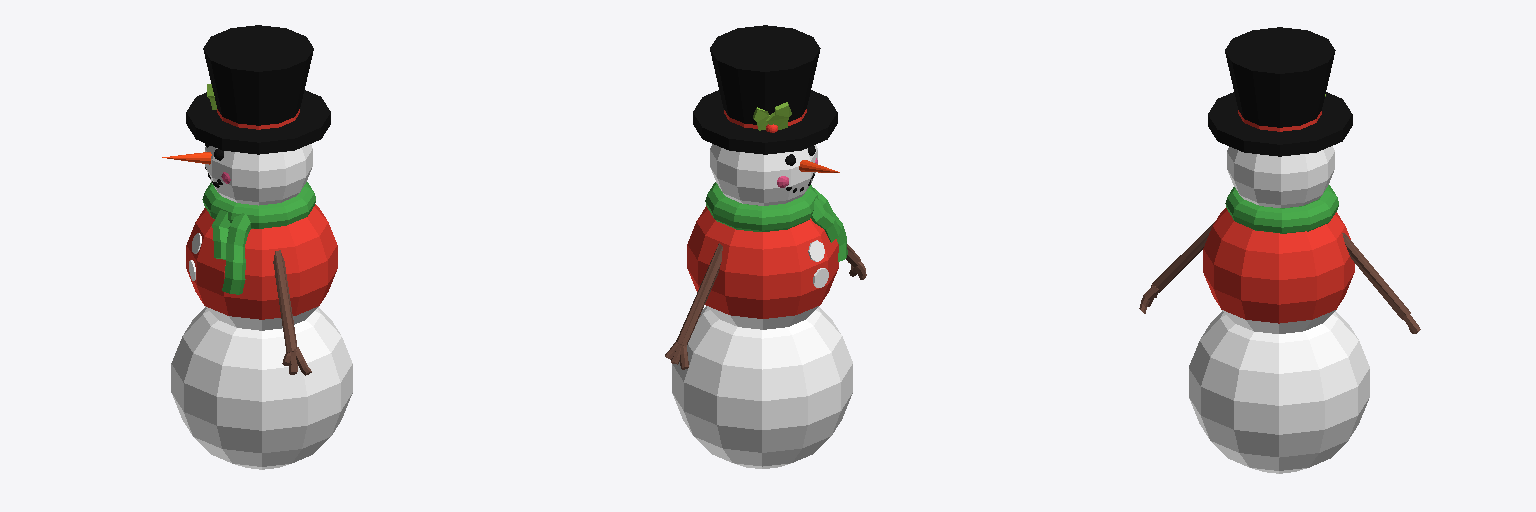
3 views of the same model, side by side, from view 1: azimuth 30°, elevation 25°; view 2: azimuth 150°, elevation 25°; view 3: azimuth 270°, elevation 25° (orthographic).
Parts seen in each view (by area): view 1: group[number redacted], group[number redacted], group[number redacted], group[number redacted], group[number redacted], group[number redacted], group[number redacted], group[number redacted], group[number redacted]; view 2: group[number redacted], group[number redacted], group[number redacted], group[number redacted], group[number redacted], group[number redacted], group[number redacted], group[number redacted]; view 3: group[number redacted], group[number redacted], group[number redacted], group[number redacted], group[number redacted], group[number redacted], group[number redacted], group[number redacted].
Part boxes in pixels (left/top/right/bottom): group[number redacted]: left=171, top=307, right=352, bottom=469; group[number redacted]: left=186, top=204, right=337, bottom=330; group[number redacted]: left=203, top=25, right=313, bottom=129; group[number redacted]: left=186, top=90, right=330, bottom=154; group[number redacted]: left=205, top=144, right=312, bottom=205; group[number redacted]: left=202, top=182, right=315, bottom=228; group[number redacted]: left=222, top=213, right=250, bottom=294; group[number redacted]: left=273, top=250, right=296, bottom=352; group[number redacted]: left=212, top=210, right=230, bottom=259; group[number redacted]: left=672, top=306, right=852, bottom=468; group[number redacted]: left=687, top=206, right=838, bottom=329; group[number redacted]: left=710, top=25, right=820, bottom=128; group[number redacted]: left=693, top=90, right=837, bottom=154; group[number redacted]: left=710, top=144, right=817, bottom=205; group[number redacted]: left=705, top=182, right=818, bottom=231; group[number redacted]: left=676, top=243, right=722, bottom=346; group[number redacted]: left=811, top=198, right=839, bottom=242; group[number redacted]: left=1189, top=311, right=1369, bottom=473; group[number redacted]: left=1203, top=208, right=1354, bottom=333; group[number redacted]: left=1225, top=27, right=1335, bottom=131; group[number redacted]: left=1227, top=146, right=1334, bottom=207; group[number redacted]: left=1208, top=92, right=1352, bottom=156; group[number redacted]: left=1225, top=185, right=1338, bottom=233; group[number redacted]: left=1342, top=233, right=1410, bottom=319; group[number redacted]: left=1151, top=222, right=1214, bottom=292.
Size of the model in its own units: 0.4444 by 1.04 by 0.6411.